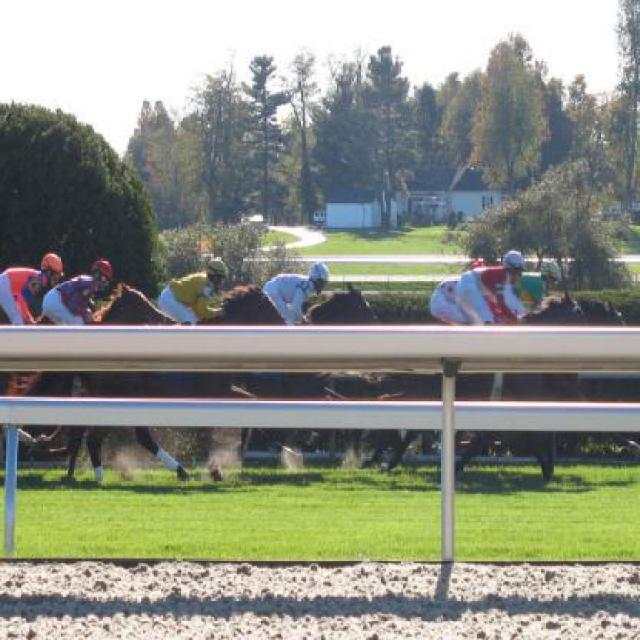Person: (456, 248, 524, 326), (157, 258, 229, 327), (0, 252, 63, 328), (44, 260, 111, 326), (262, 261, 329, 325), (496, 260, 564, 322), (430, 259, 487, 324)
